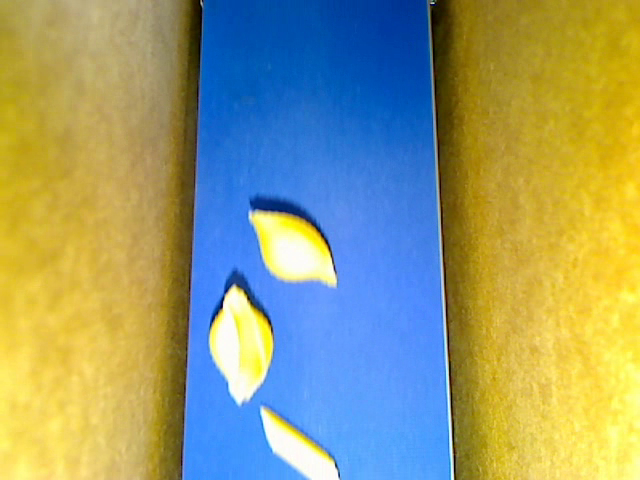penne: (260, 404, 339, 479)
shell: (209, 285, 272, 406), (247, 208, 337, 288)
